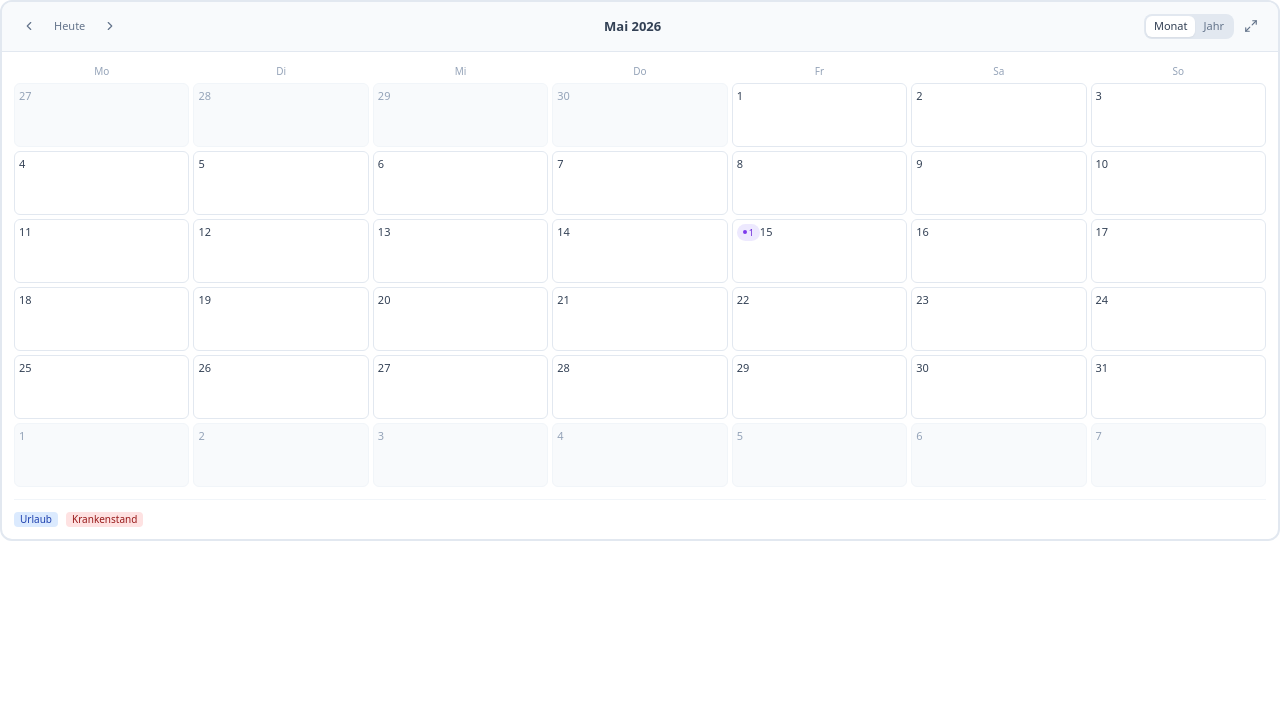
Test: LeaveCalendar — appointment layer › shows the appointment in DayDetailModal when the day is clicked
The width and height of the screenshot is (1280, 720).
Step 1. Click the button with test id "cal-cell-2026-05-15" → coordinates (819, 250), box [732, 218, 907, 282]
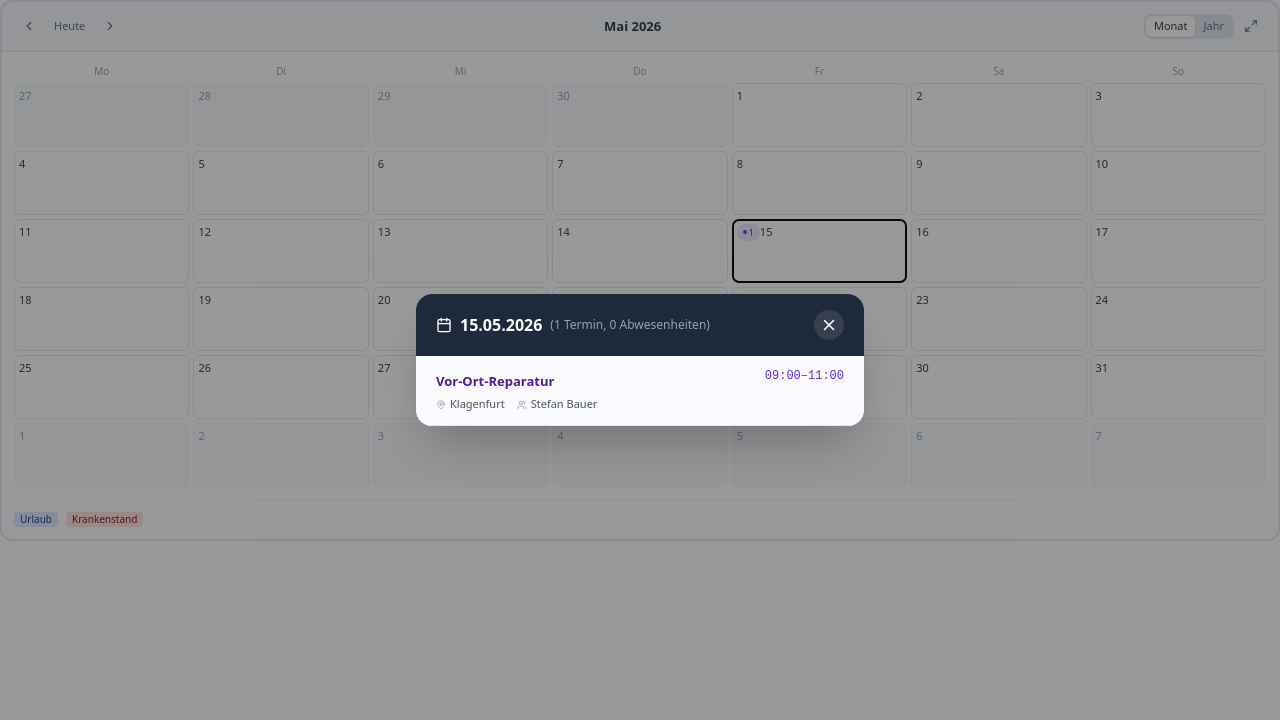
Now the list item with test id "day-detail-appointment" is shown, box [416, 356, 864, 425]
Now the text "Vor-Ort-Reparatur" is shown, box [436, 372, 554, 390]
Now the text "Klagenfurt" is shown, box [436, 396, 505, 413]
